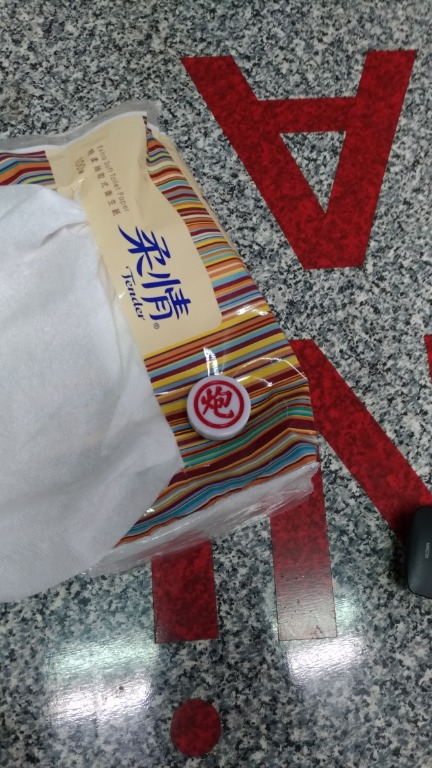r-cannon: (178, 363, 267, 447)
